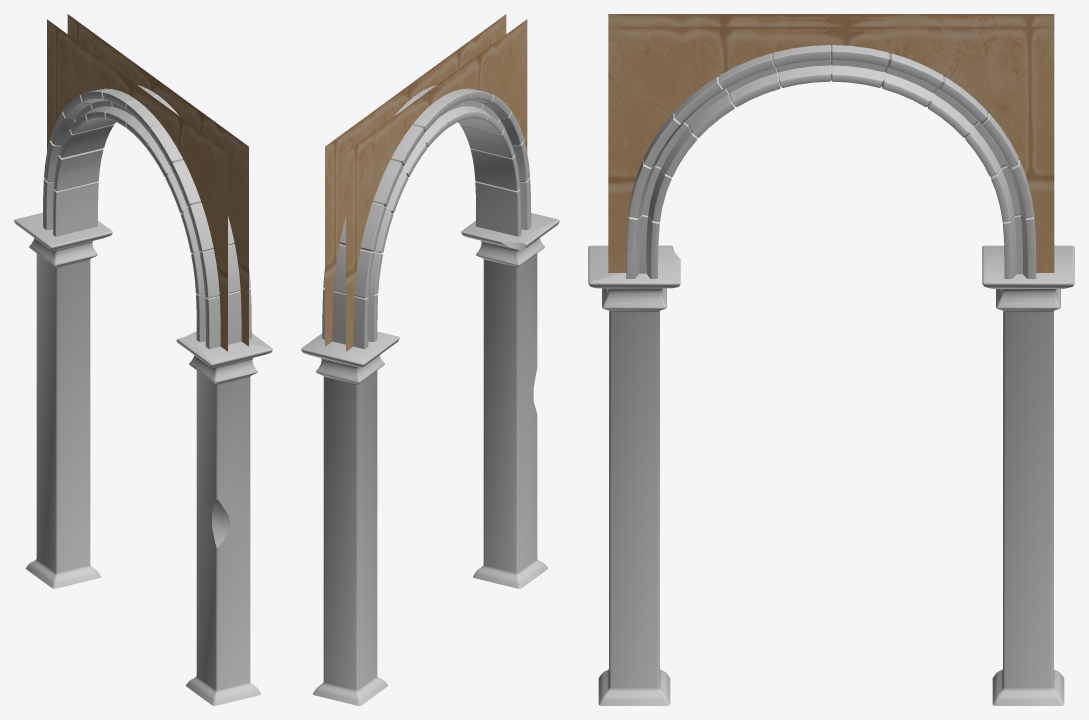
The model's file is SM_Wall_Opened_01.fbx.
3 renders of one model, left to right at view 1: azimuth 30°, elevation 25°; view 2: azimuth 150°, elevation 25°; view 3: azimuth 270°, elevation 25°, orthographic. The views are drawn at different scales.
Parts seen in each view (by area): view 1: SM_Wall_Opened_01_LOD0; view 2: SM_Wall_Opened_01_LOD0; view 3: SM_Wall_Opened_01_LOD0.
Boxes of the visible parts, left/top/right/bottom form: SM_Wall_Opened_01_LOD0: left=14, top=14, right=272, bottom=705; SM_Wall_Opened_01_LOD0: left=301, top=14, right=559, bottom=705; SM_Wall_Opened_01_LOD0: left=588, top=14, right=1074, bottom=705.
Bounding box in the file's own units: 60.09 × 327 × 500.
